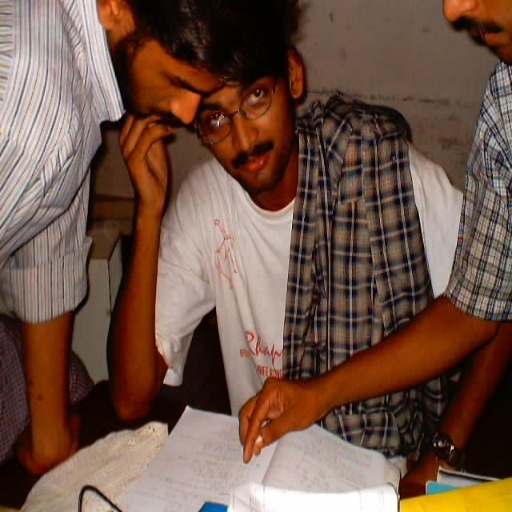hand: (238, 355, 337, 456), (116, 112, 177, 220), (14, 411, 82, 480), (398, 451, 460, 501)
